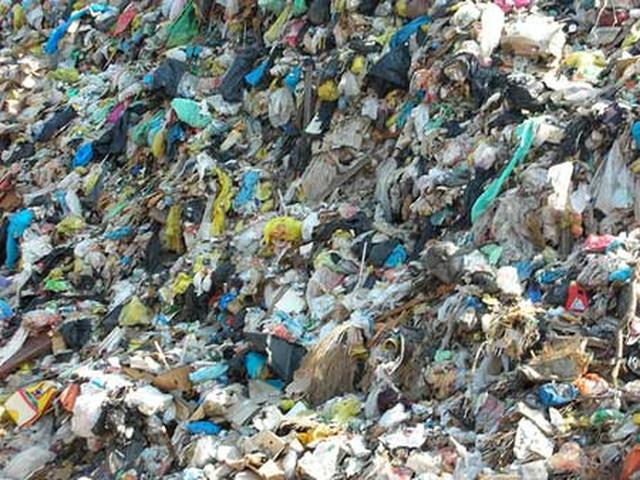garbage: (12, 21, 624, 463)
